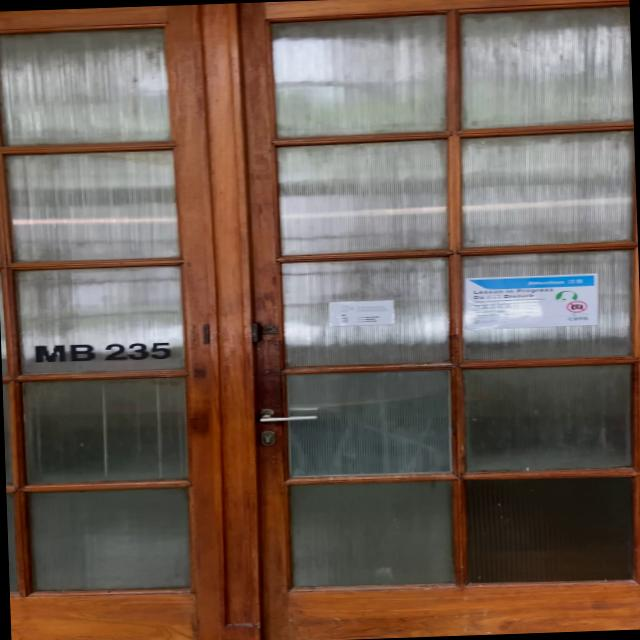room235Window: (27, 332, 185, 364)
